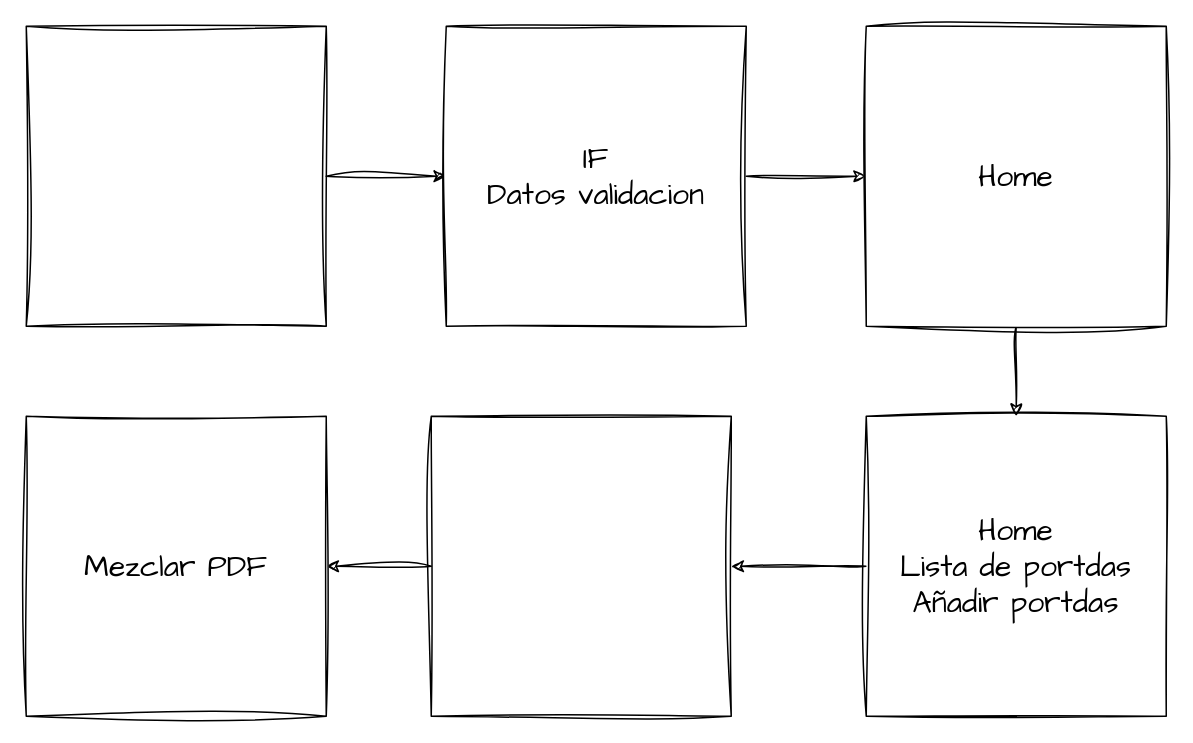
Image size: 1193x743. Some labels were removed from this diagram. The shapes that lost their labels are listed below. From the top down, each one's centre as x and y in pixels, then its label:
At point (175, 175): "Bievenido".
At point (580, 565): "Editar portada".
